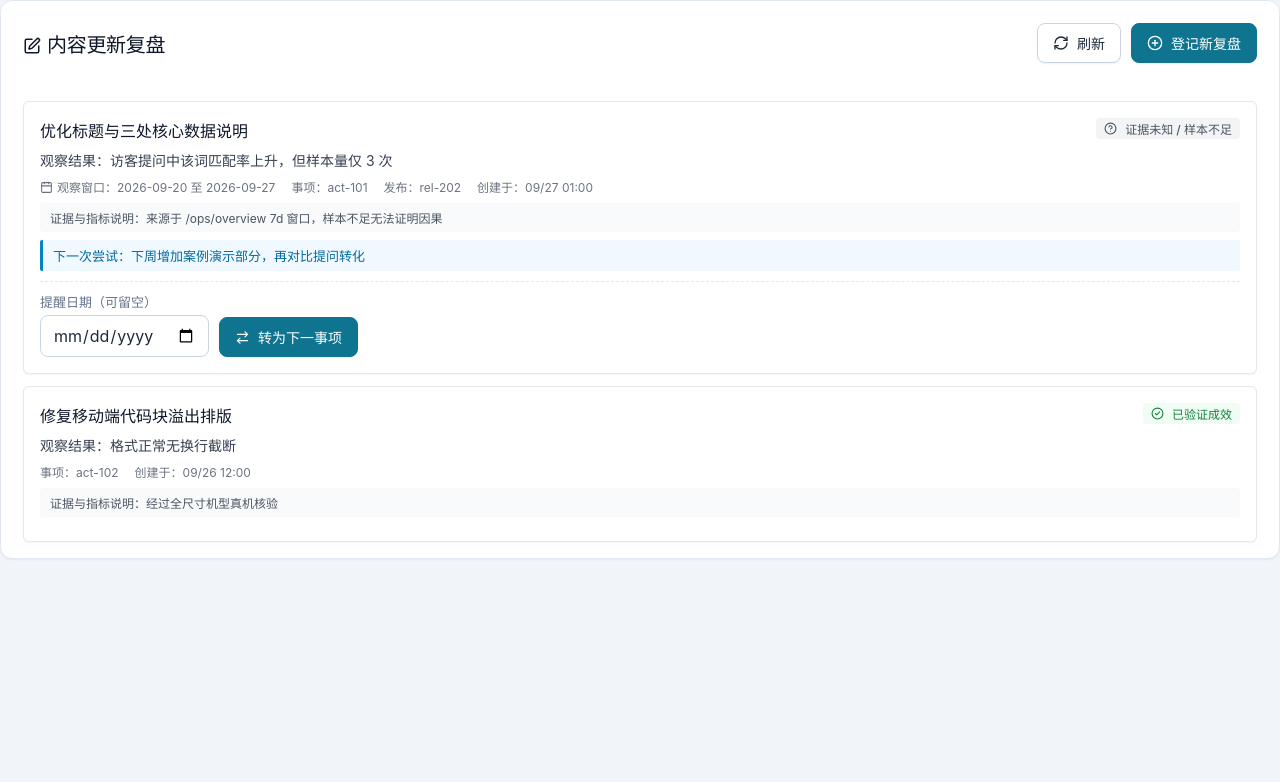
Scenario: ContentReviewPanel (O08 内容更新复盘) › 表单缺少必填项时给出明确提示且不提交
Click the button "登记新复盘": click(1194, 43) [1131,23,1257,63]
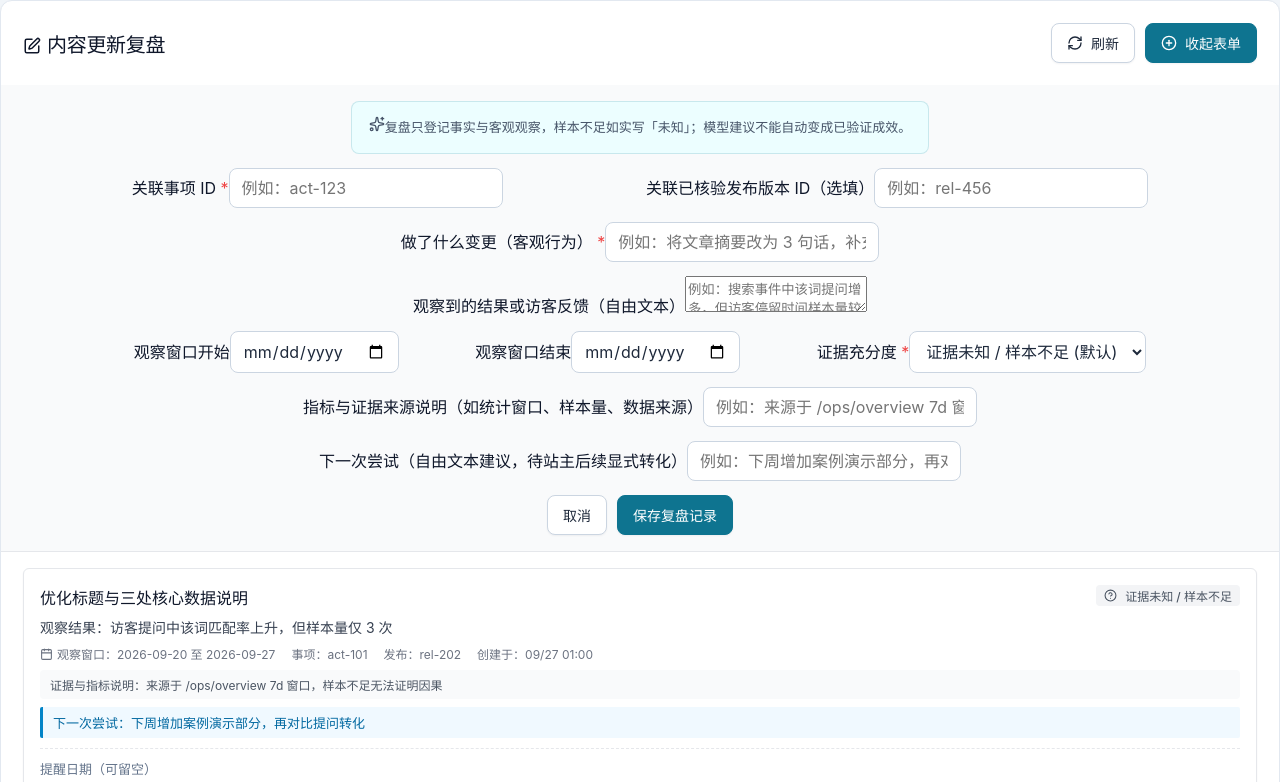
# 留空事项 ID 与变更
Submit the form named "保存复盘记录", box [1,85,1279,552]
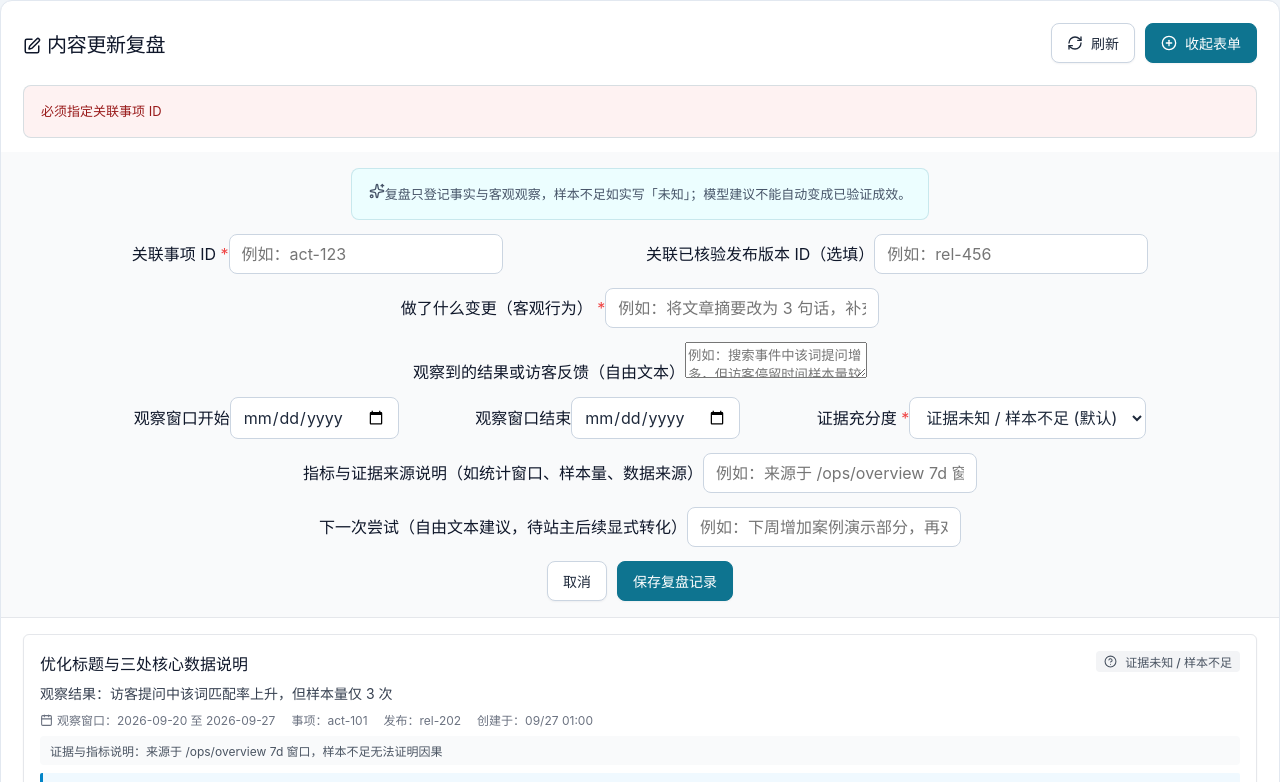
Expected: the text "必须指定关联事项 ID" is shown, [23,85,1257,138]
